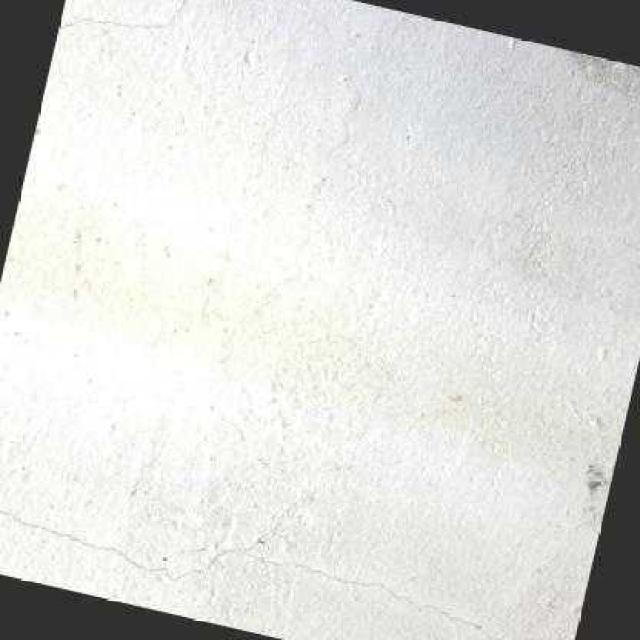D00: (0, 505, 504, 640), (57, 0, 198, 35)
